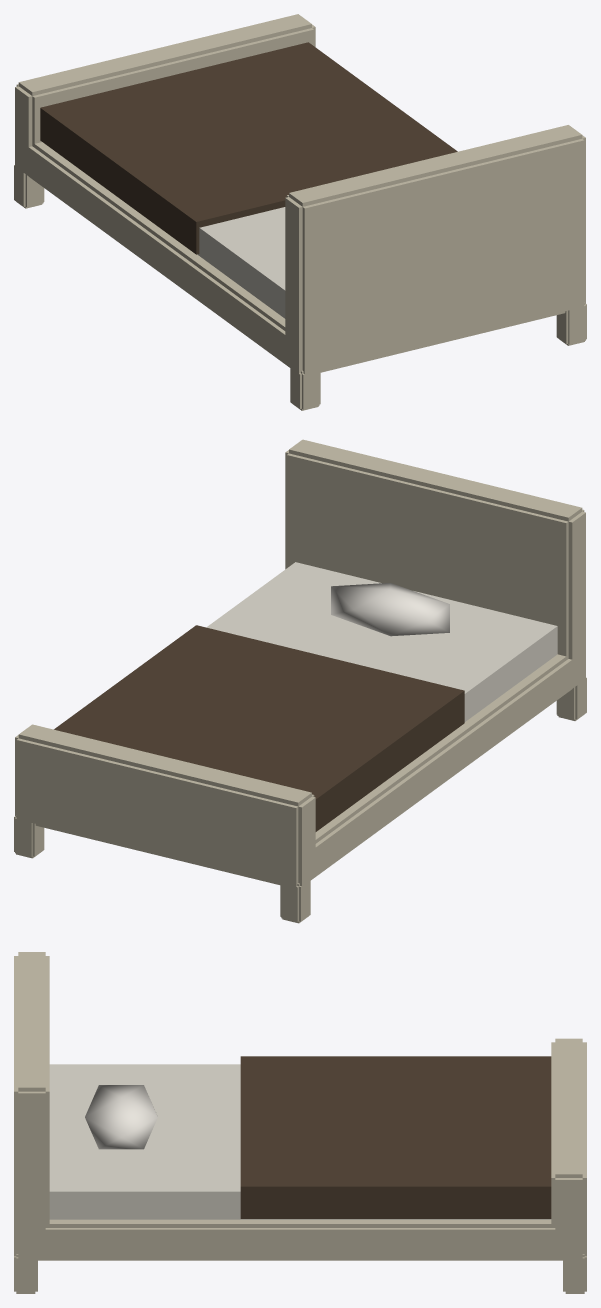
File: bone_bed_v0.glb
3 renders of one model, top to bottom at view 1: azimuth 30°, elevation 25°; view 2: azimuth 150°, elevation 25°; view 3: azimuth 270°, elevation 25°, orthographic.
Parts seen in each view (by area): view 1: bone_bed_v0; view 2: bone_bed_v0; view 3: bone_bed_v0.
Part boxes in pixels (x1,y1,x2,y2): bone_bed_v0: [14, 14, 586, 410]; bone_bed_v0: [14, 439, 586, 923]; bone_bed_v0: [14, 952, 586, 1293].
Size of the model in its own units: 1.38 by 0.95 by 2.4.
